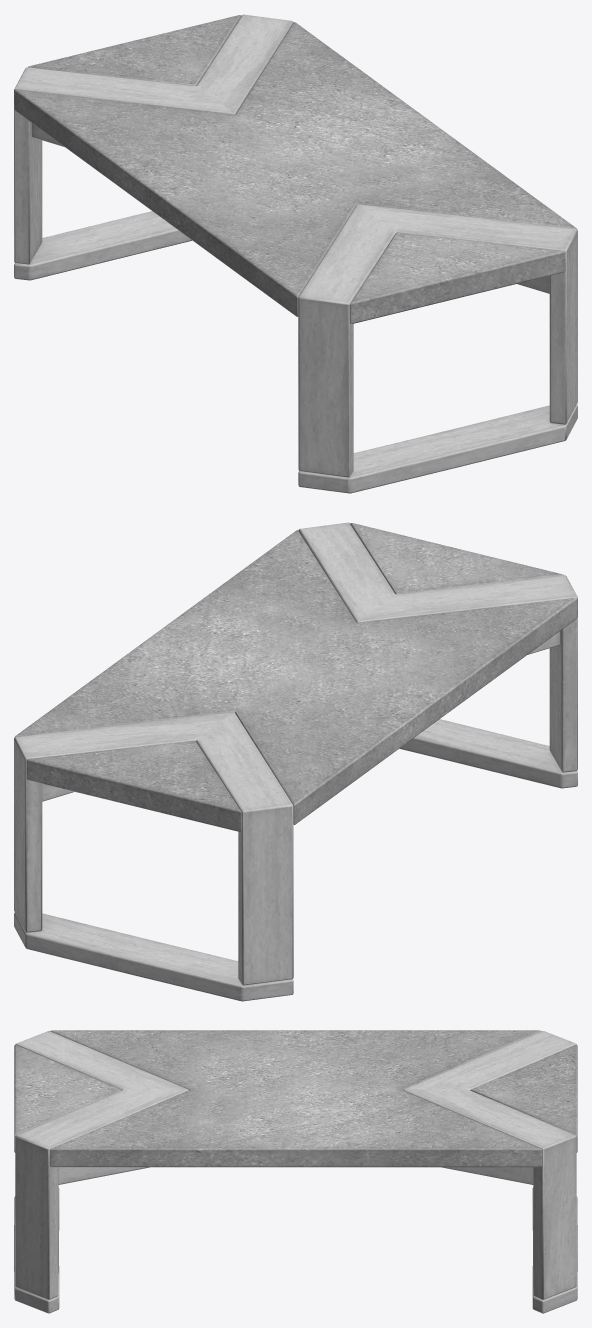
File: coffee-table.glb
3 renders of one model, top to bottom at view 1: azimuth 30°, elevation 25°; view 2: azimuth 150°, elevation 25°; view 3: azimuth 270°, elevation 25°, orthographic. The views are drawn at different scales.
Parts seen in each view (by area): view 1: modern_coffee_table_01; view 2: modern_coffee_table_01; view 3: modern_coffee_table_01.
Boxes of the visible parts, x1,y1,x2,y2 form: modern_coffee_table_01: (14,14,577,493); modern_coffee_table_01: (14,522,577,1001); modern_coffee_table_01: (14,1030,577,1313).
Bounding box in the file's own units: 0.5999 × 0.39 × 1.2.
1 material, 1 textured.
